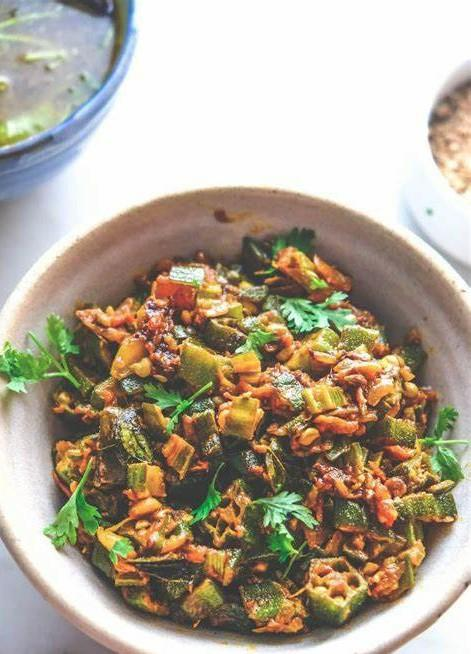BhindiMasala: (50, 234, 456, 633)
